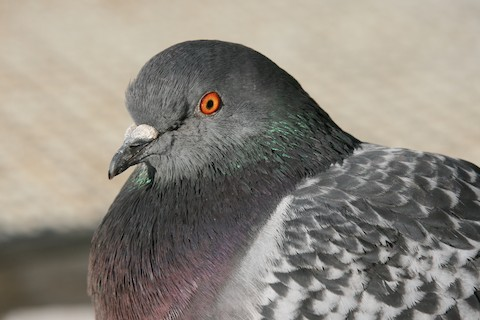pigeon: (82, 30, 472, 311)
